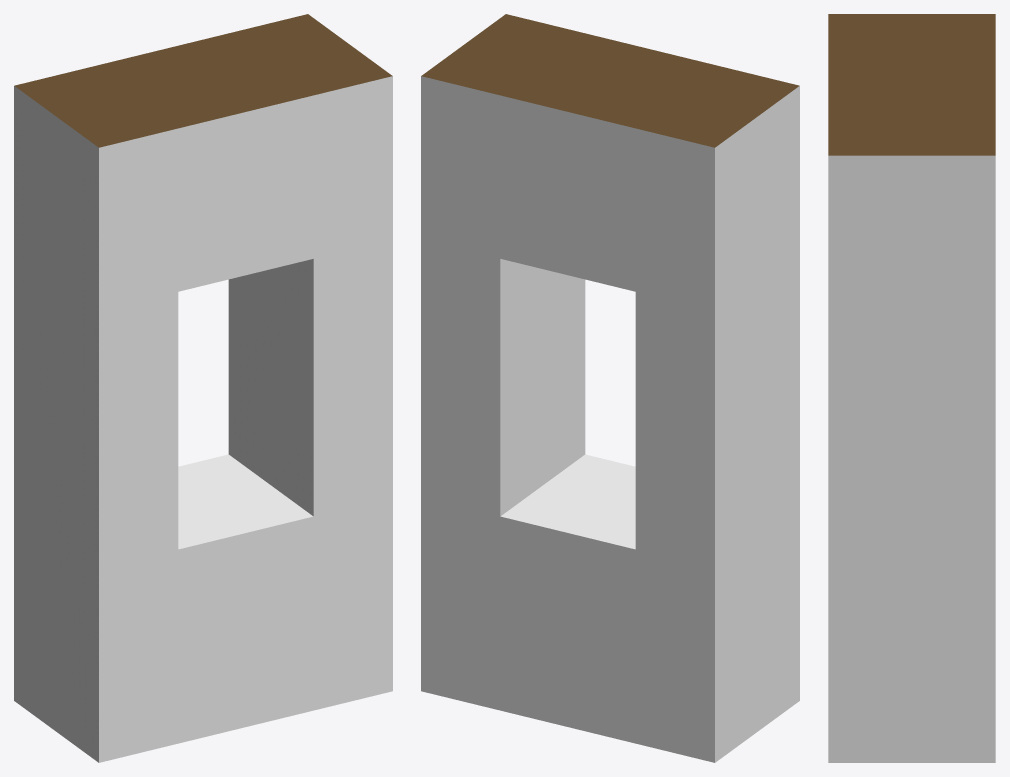
File: WallWithWindow2-Atl.fbx
3 renders of one model, left to right at view 1: azimuth 30°, elevation 25°; view 2: azimuth 150°, elevation 25°; view 3: azimuth 270°, elevation 25°, orthographic.
Visible parts, largest first — view 1: Wall with windows v2; view 2: Wall with windows v2; view 3: Wall with windows v2.
Boxes of the visible parts, x1,y1,x2,y2 form: Wall with windows v2: [14, 14, 392, 762]; Wall with windows v2: [421, 14, 799, 762]; Wall with windows v2: [828, 14, 995, 762].
Size of the model in its own units: 200 by 400 by 100.
